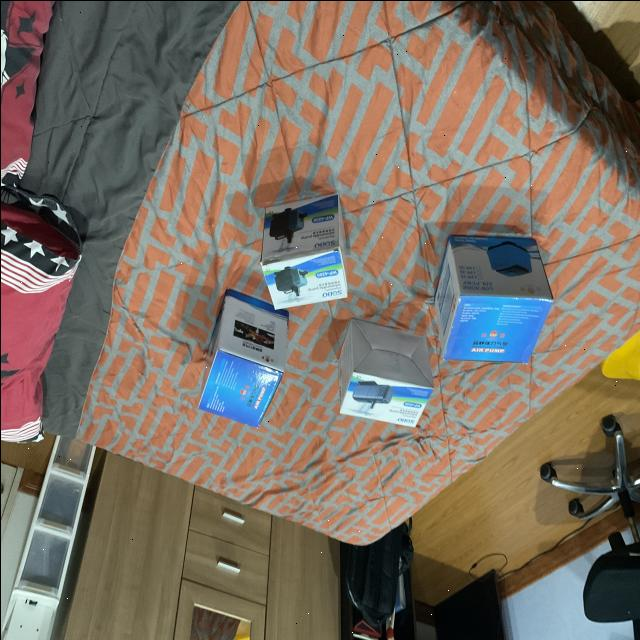SOBO_WP_4200: (246, 190, 362, 318), (332, 312, 434, 448)
YAMANO_LPP_20: (423, 218, 551, 381), (188, 284, 294, 444)
